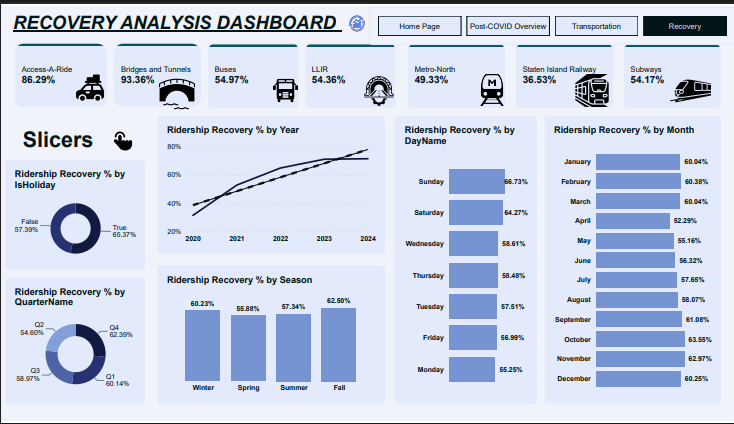

Layout of this report page (visuals, bound fields, positions):
{"tool":"powerbi","page":{"name":"Recovery","canvas":[1280,720],"ordinal":3},"visuals":[{"type":"cardVisual","fields":{"Data":["Key Measures.Ridership Recovery %"]},"box":[198.2,63.8,152.9,110.9],"z":0},{"type":"cardVisual","fields":{"Data":["Key Measures.Ridership Recovery %"]},"box":[25.2,63.8,161.3,110.9],"z":1000},{"type":"cardVisual","fields":{"Data":["Key Measures.Ridership Recovery %"]},"box":[362.8,63.8,156.2,110.9],"z":2000},{"type":"cardVisual","fields":{"Data":["Key Measures.Ridership Recovery %"]},"box":[532.5,63.8,156.2,110.9],"z":3000},{"type":"cardVisual","fields":{"Data":["Key Measures.Ridership Recovery %"]},"box":[710.6,63.8,168,110.9],"z":4000},{"type":"cardVisual","fields":{"Data":["Key Measures.Ridership Recovery %"]},"box":[898.7,63.8,168,110.9],"z":5000},{"type":"cardVisual","fields":{"Data":["Key Measures.Ridership Recovery %"]},"box":[1086.8,63.8,168,110.9],"z":6000},{"type":"lineChart","fields":{"Category":["Calendar.Date.Variation.Date Hierarchy.Year"],"Y":["Key Measures.Ridership Recovery %"]},"box":[275.5,189.8,394.8,238.5],"z":7000},{"type":"columnChart","fields":{"Category":["Calendar.Season"],"Y":["Key Measures.Ridership Recovery %"]},"box":[275.5,450.2,394.8,238.5],"z":8000},{"type":"clusteredBarChart","title":"Ridership Recovery % by Month","fields":{"Y":["Key Measures.Ridership Recovery %"],"Category":["Calendar.Date.Variation.Date Hierarchy.Month"]},"box":[949.1,189.8,305.7,498.9],"z":9000},{"type":"clusteredBarChart","fields":{"Category":["Calendar.DayName"],"Y":["Key Measures.Ridership Recovery %"]},"box":[688.7,189.8,245.2,498.9],"z":10000},{"type":"textbox","box":[40.3,210,131,47],"z":11000},{"type":"textbox","box":[22.7,8.5,647.7,48.2],"z":12000},{"type":"image","box":[582.5,0,78,56.7],"z":13000},{"type":"image","box":[461.9,100.8,70.6,89],"z":14000},{"type":"image","box":[611.4,105.8,97.4,80.6],"z":15000},{"type":"image","box":[814.7,99.1,84,90.7],"z":16000},{"type":"image","box":[114.2,95.7,84,90.7],"z":17000},{"type":"image","box":[252,105.8,110.9,90.7],"z":18000},{"type":"image","box":[960.8,102.5,139.4,87.3],"z":19000},{"type":"image","box":[1149,95.7,105.8,100.8],"z":20000},{"type":"pageNavigator","box":[642.7,0,637.3,65.9],"z":22000},{"type":"image","box":[175.7,199.8,76.5,66.6],"z":25000},{"type":"donutChart","fields":{"Category":["Calendar.QuarterName"],"Y":["total.Ridership Recovery %"]},"box":[9.9,470.6,242.4,218.3],"z":25250},{"type":"donutChart","fields":{"Category":["Calendar.IsHoliday"],"Y":["total.Ridership Recovery %"]},"box":[9.9,266.5,242.4,191.3],"z":25500}]}

Visuals, with their boxes in screenshot pixels (x1, y1, x2, y2), scaled from the page's 1280x720 canvas onto the 734x424 screenshot:
cardVisual - Key Measures.Ridership Recovery %: <box>114,38,201,103</box>
cardVisual - Key Measures.Ridership Recovery %: <box>14,38,107,103</box>
cardVisual - Key Measures.Ridership Recovery %: <box>208,38,298,103</box>
cardVisual - Key Measures.Ridership Recovery %: <box>305,38,395,103</box>
cardVisual - Key Measures.Ridership Recovery %: <box>407,38,504,103</box>
cardVisual - Key Measures.Ridership Recovery %: <box>515,38,612,103</box>
cardVisual - Key Measures.Ridership Recovery %: <box>623,38,720,103</box>
lineChart - Calendar.Date.Variation.Date Hierarchy.Year x Key Measures.Ridership Recovery %: <box>158,112,384,252</box>
columnChart - Calendar.Season x Key Measures.Ridership Recovery %: <box>158,265,384,406</box>
"Ridership Recovery % by Month" clusteredBarChart: <box>544,112,720,406</box>
clusteredBarChart - Calendar.DayName x Key Measures.Ridership Recovery %: <box>395,112,536,406</box>
textbox: <box>23,124,98,151</box>
textbox: <box>13,5,384,33</box>
image: <box>334,0,379,33</box>
image: <box>265,59,305,112</box>
image: <box>351,62,406,110</box>
image: <box>467,58,515,112</box>
image: <box>65,56,114,110</box>
image: <box>145,62,208,116</box>
image: <box>551,60,631,112</box>
image: <box>659,56,720,116</box>
pageNavigator: <box>369,0,733,39</box>
image: <box>101,118,145,157</box>
donutChart - Calendar.QuarterName x total.Ridership Recovery %: <box>6,277,145,406</box>
donutChart - Calendar.IsHoliday x total.Ridership Recovery %: <box>6,157,145,270</box>
